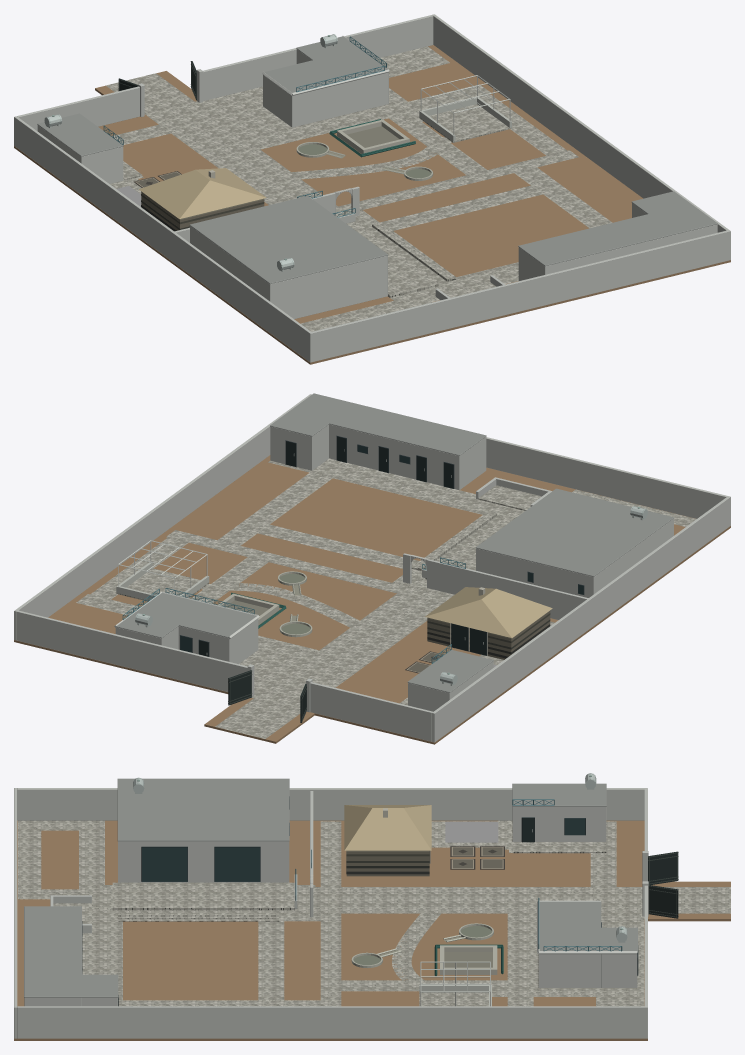
Rendered from rest-house.glb.
3 renders of one model, top to bottom at view 1: azimuth 30°, elevation 25°; view 2: azimuth 150°, elevation 25°; view 3: azimuth 270°, elevation 25°, orthographic. The views are drawn at different scales.
Parts seen in each view (by area): view 1: RH_Walls, RH_Ground, RH_Paving, RH_Roofs, RH_Tent, RH_Terraces, RH_Basins, RH_Pergola, RH_BlueRailings, RH_RoofTanks; view 2: RH_Walls, RH_Ground, RH_Paving, RH_Roofs, RH_Tent, RH_Terraces, RH_DoorPanels, RH_Basins, RH_Pergola, RH_BlueRailings, RH_WindowFrames, RH_Gate_Left (+1 smaller); view 3: RH_Walls, RH_Ground, RH_Paving, RH_Roofs, RH_Terraces, RH_Tent, RH_Glass, RH_Basins, RH_Pergola, RH_Lawn, RH_Gate_Left, RH_Gate_Right (+3 smaller).
Part boxes in pixels (x1,y1,x2,y2): RH_Walls: (14, 14, 730, 362); RH_Ground: (14, 45, 730, 364); RH_Paving: (106, 46, 612, 331); RH_Roofs: (37, 36, 717, 284); RH_Tent: (133, 168, 266, 231); RH_Terraces: (123, 104, 511, 297); RH_Basins: (296, 119, 433, 180); RH_Pergola: (419, 75, 511, 141); RH_BlueRailings: (103, 36, 386, 217); RH_RoofTanks: (44, 34, 337, 271); RH_Walls: (14, 394, 730, 742); RH_Ground: (14, 455, 730, 744); RH_Paving: (76, 458, 696, 738); RH_Roofs: (115, 393, 674, 692); RH_Tent: (405, 587, 552, 673); RH_Terraces: (116, 485, 541, 705); RH_DoorPanels: (199, 436, 486, 656); RH_Basins: (218, 571, 312, 637); RH_Pergola: (116, 540, 209, 600); RH_BlueRailings: (122, 557, 465, 663); RH_WindowFrames: (180, 435, 584, 656); RH_Gate_Left: (228, 670, 252, 705); RH_Walls: (14, 788, 648, 1038); RH_Ground: (14, 820, 730, 1040); RH_Paving: (18, 820, 730, 1006); RH_Roofs: (24, 778, 637, 997); RH_Terraces: (53, 842, 606, 1006); RH_Tent: (344, 805, 504, 876); RH_Glass: (142, 818, 585, 881); RH_Basins: (351, 923, 503, 975); RH_Pergola: (419, 961, 491, 1006); RH_Lawn: (445, 821, 498, 842); RH_Gate_Left: (648, 885, 678, 918); RH_Gate_Right: (648, 851, 678, 884).
Size of the model in its own units: 40 by 4.99 by 55.2.
4 materials, 1 textured.
